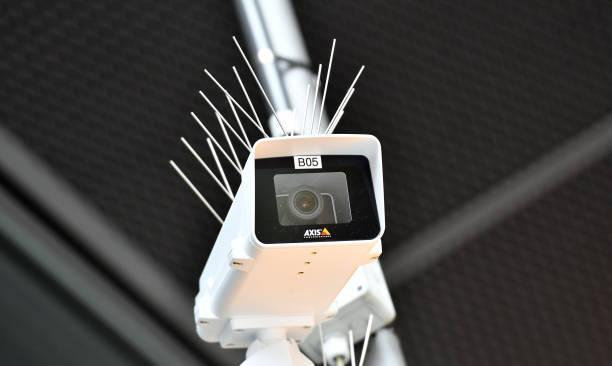camera: (128, 25, 430, 355)
